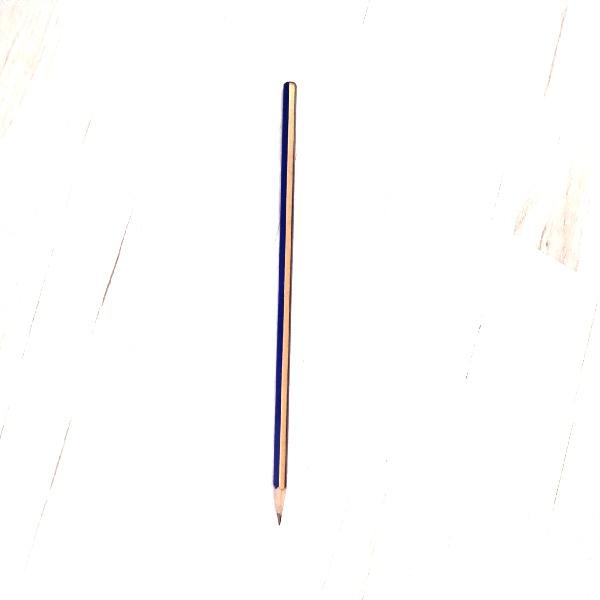pencil: (273, 82, 296, 524)
